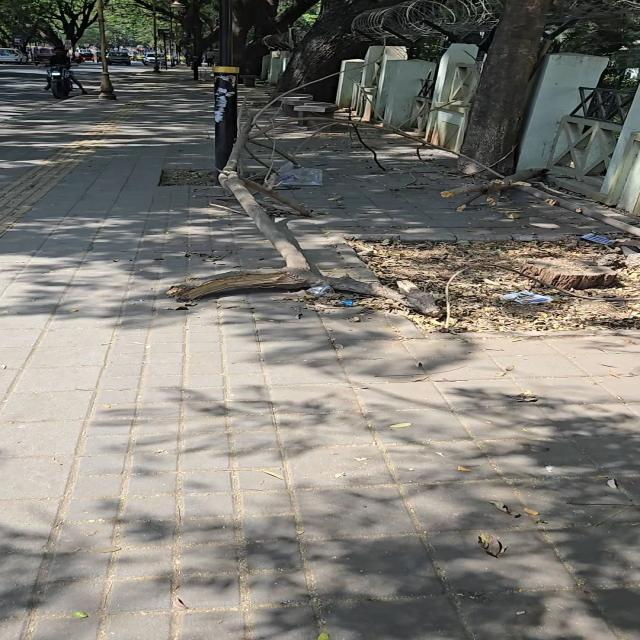obstacle: (462, 0, 551, 174), (277, 0, 385, 101), (242, 0, 317, 75), (214, 0, 238, 170), (96, 0, 116, 100), (294, 102, 337, 127), (281, 94, 312, 116), (153, 0, 160, 73), (170, 8, 175, 67), (240, 75, 258, 87), (163, 31, 167, 69)
